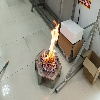fire: (43, 20, 60, 68)
